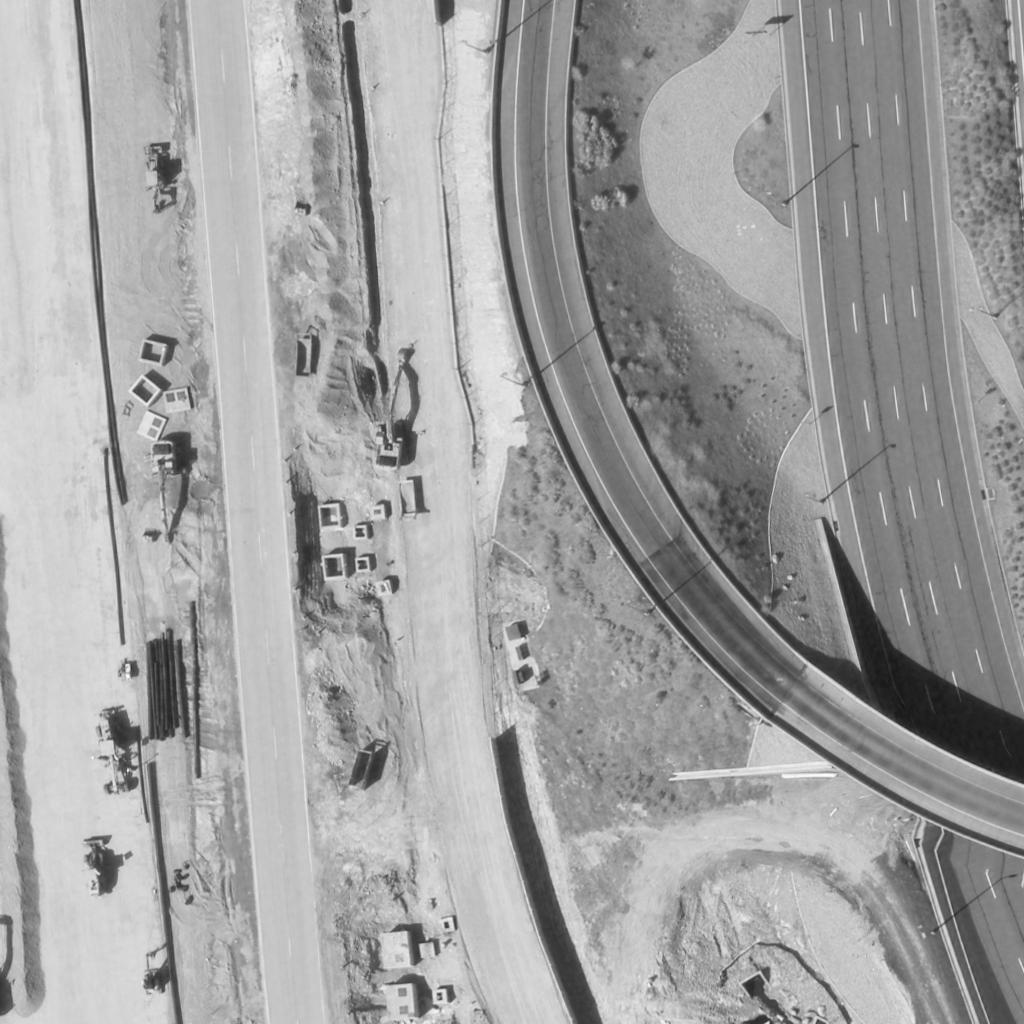vehicle: (370, 346, 424, 470), (92, 712, 132, 794), (152, 441, 182, 545), (141, 145, 171, 219), (81, 840, 115, 900), (141, 949, 167, 995)
